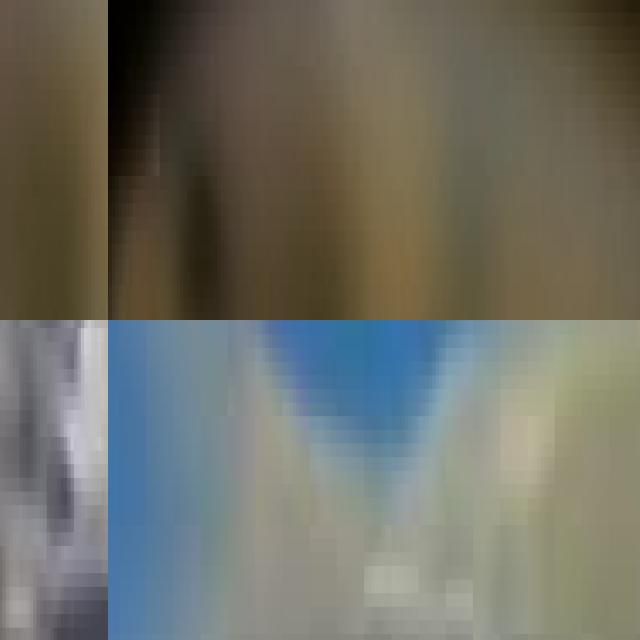fish: (108, 0, 640, 320), (0, 0, 108, 320)
